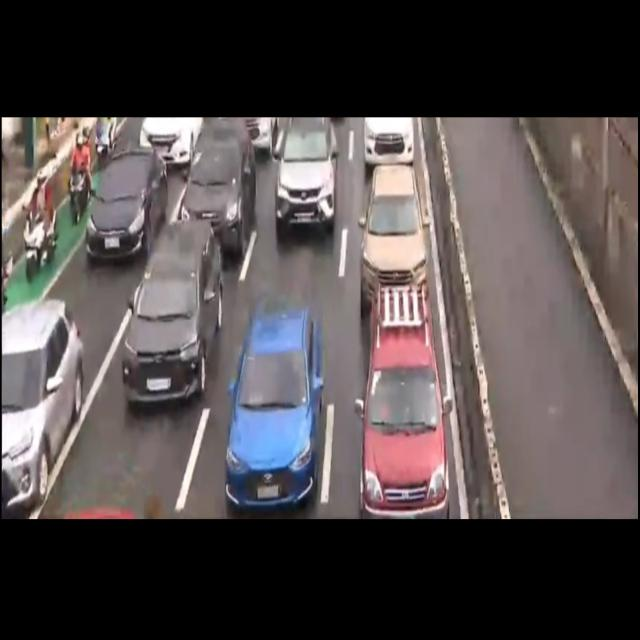Motorcycle: (18, 163, 58, 281), (63, 129, 93, 231)
SUV: (0, 300, 90, 510), (122, 223, 222, 410), (361, 293, 444, 506), (354, 172, 432, 307), (180, 123, 256, 260), (274, 124, 338, 234)
Sedan: (225, 297, 322, 500), (84, 145, 170, 263)
